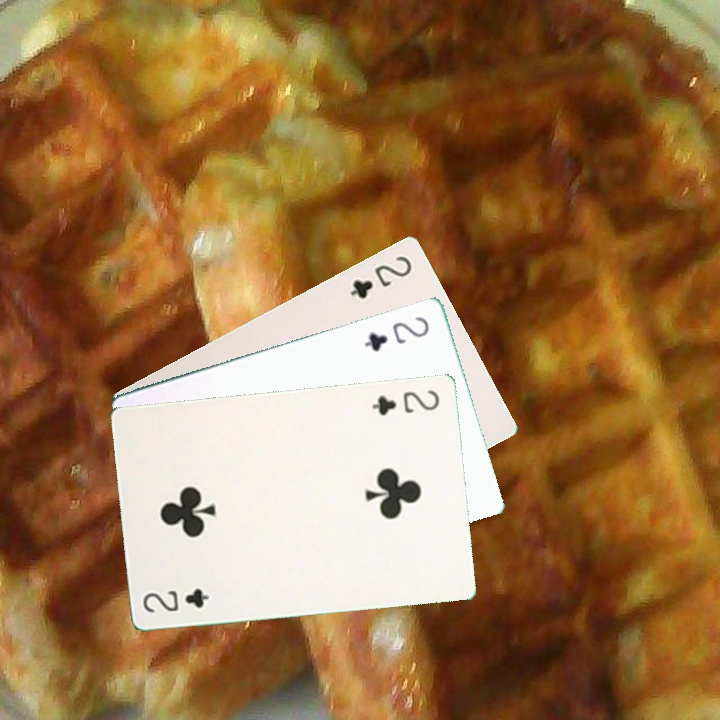2c: (345, 251, 415, 302), (360, 312, 432, 355), (368, 386, 442, 418), (139, 584, 211, 616)
